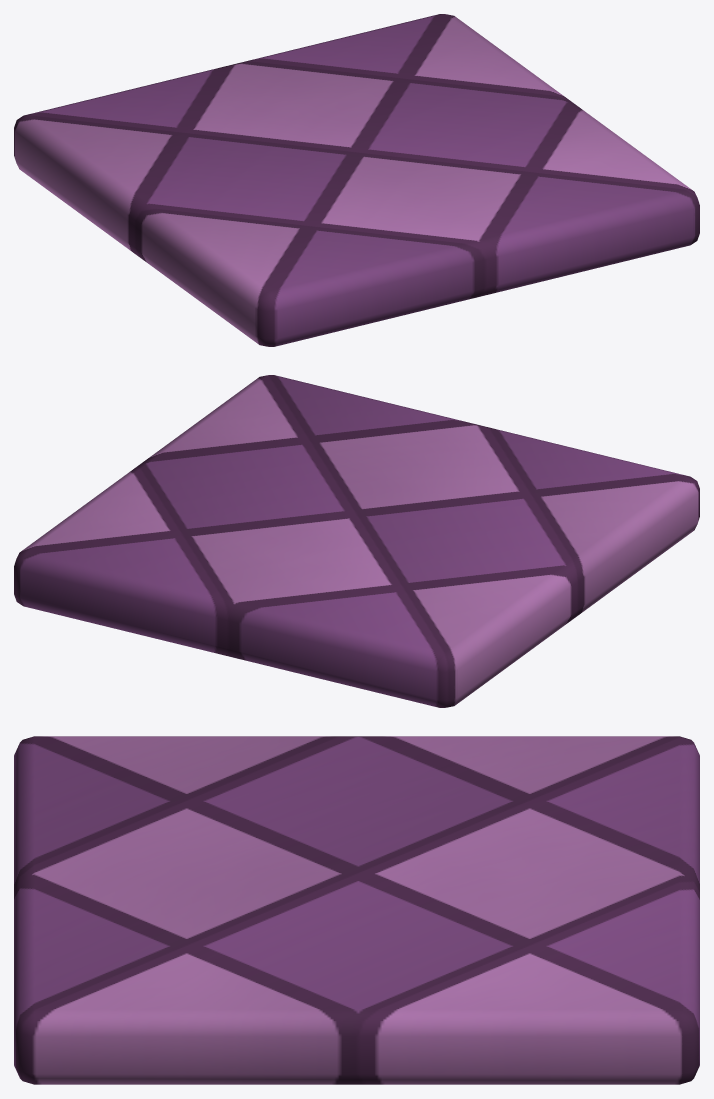
The model's file is floor.glb.
The picture shows the model from 3 angles, top to bottom: view 1: azimuth 30°, elevation 25°; view 2: azimuth 150°, elevation 25°; view 3: azimuth 270°, elevation 25°; orthographic projection. The views are drawn at different scales.
Visible parts, largest first — view 1: floor; view 2: floor; view 3: floor.
Part boxes in pixels (left/top/right/bottom): floor: left=14, top=14, right=699, bottom=346; floor: left=14, top=375, right=699, bottom=707; floor: left=14, top=736, right=699, bottom=1084.
Size of the model in its own units: 1 by 0.12 by 1.
Materials: 1 (1 with a texture image).
